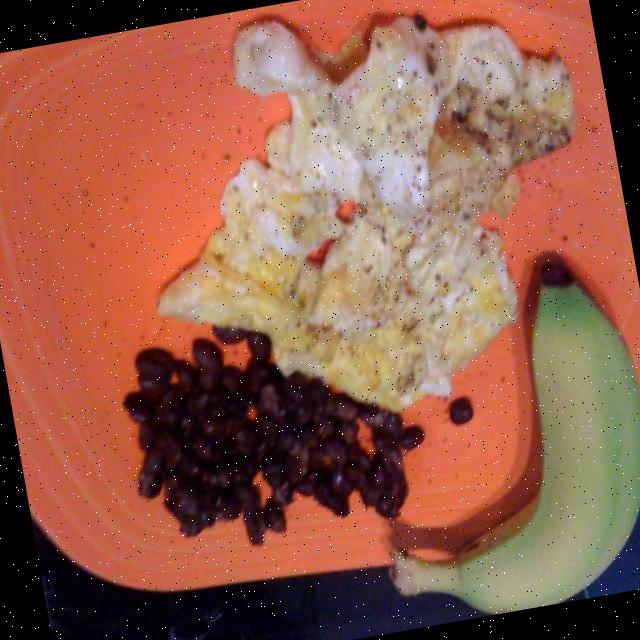banana: (390, 251, 640, 611)
